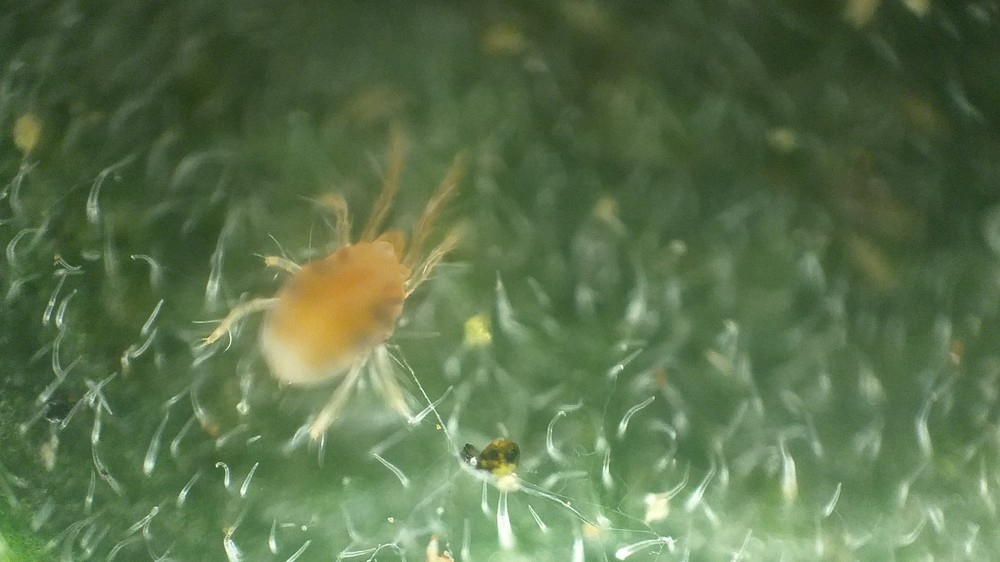Aracnido Rojo: (195, 130, 494, 466)
